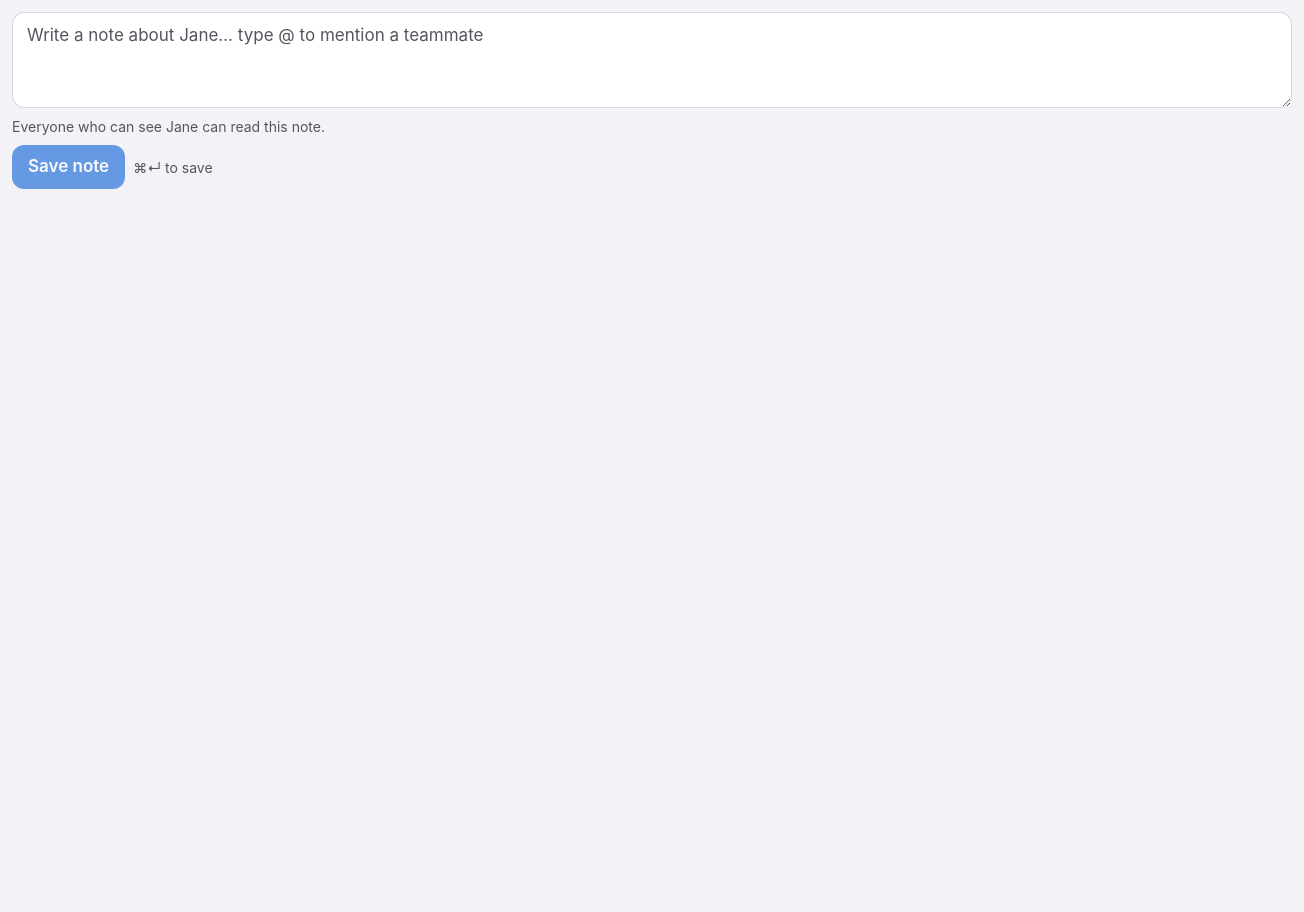
Test: NoteComposer save › a retry of the same draft after a lost answer sends the same note id; a new draft gets a new one
Later steps or results of the test are not shown.
Type "Call back Tuesday" into the text box named "Note about Jane Doe" at (652, 60), box [12,12,1292,108]
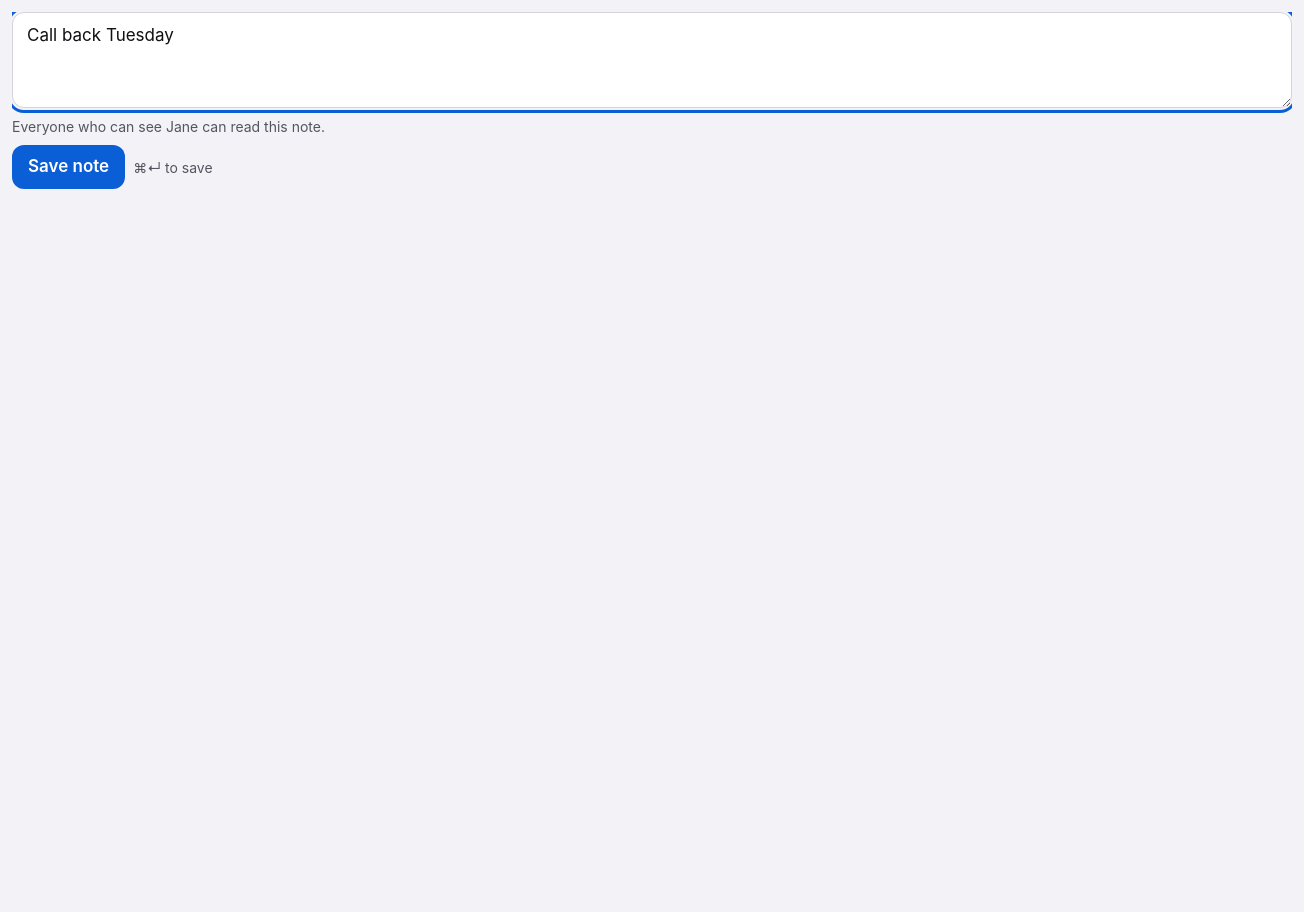
Click the button "Save note" at (69, 167), box [12,145,125,189]
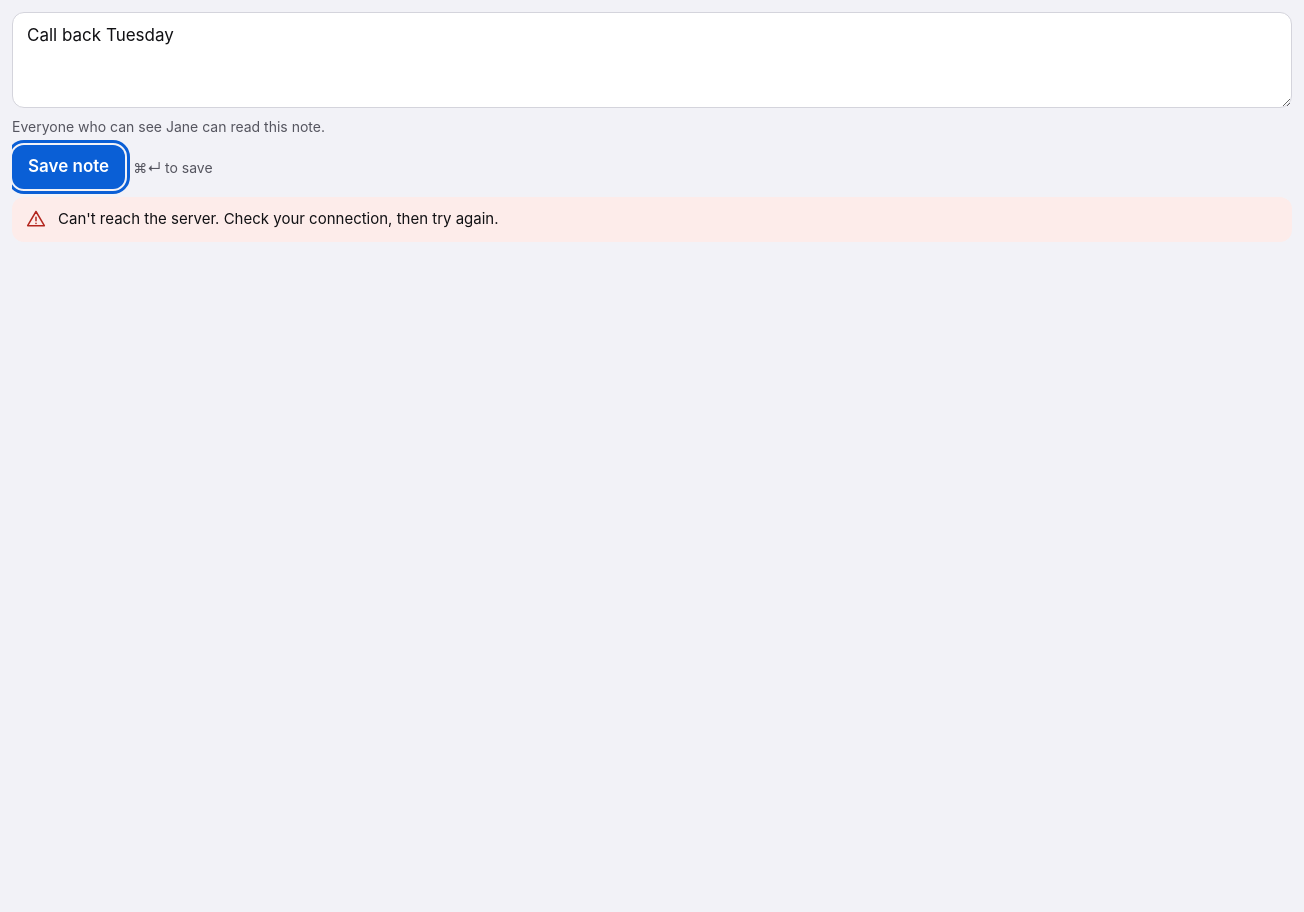
Click the button "Save note" at (69, 167), box [12,145,125,189]
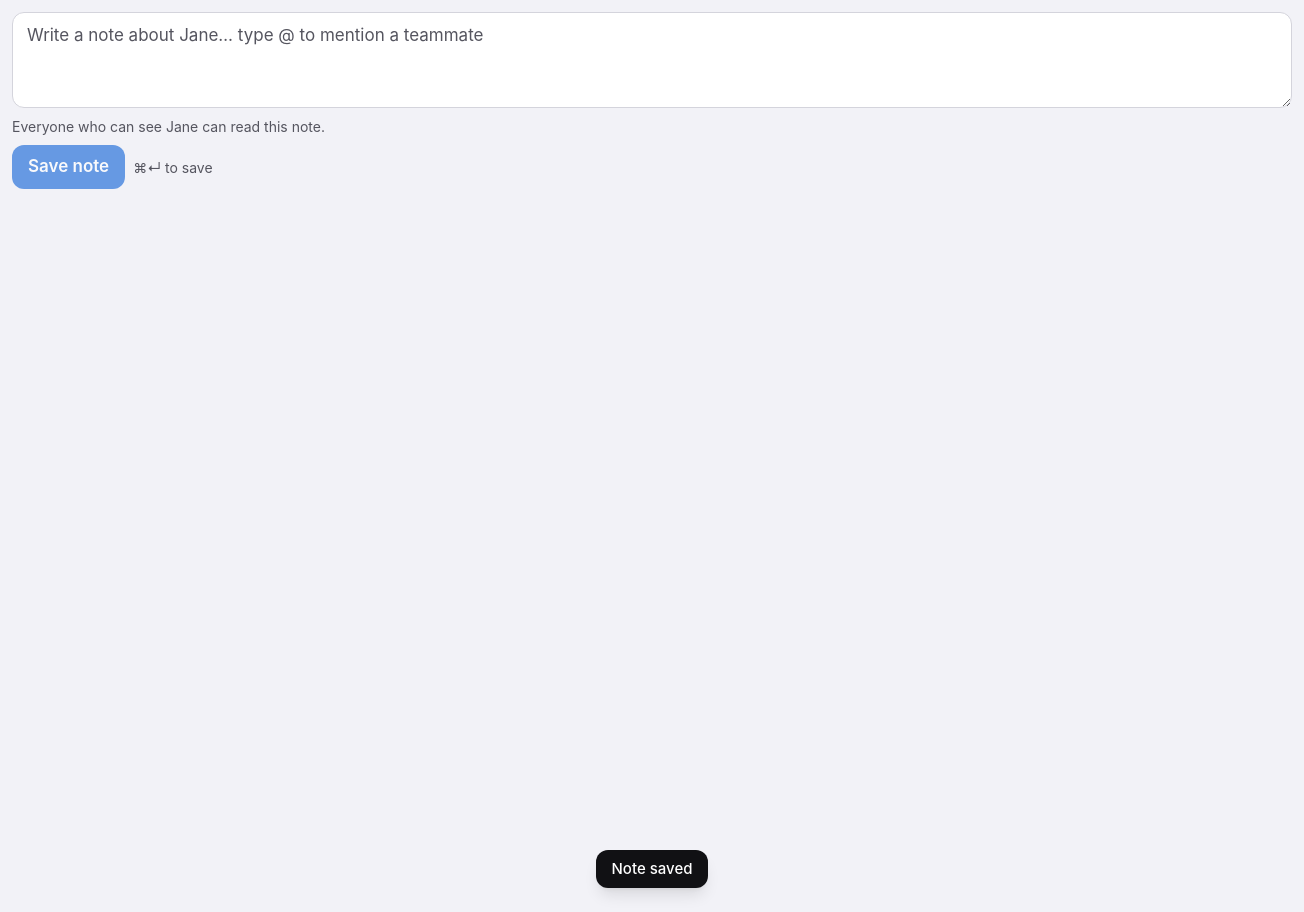
expect the text "Note saved" is shown: met, box [612,858,692,880]
